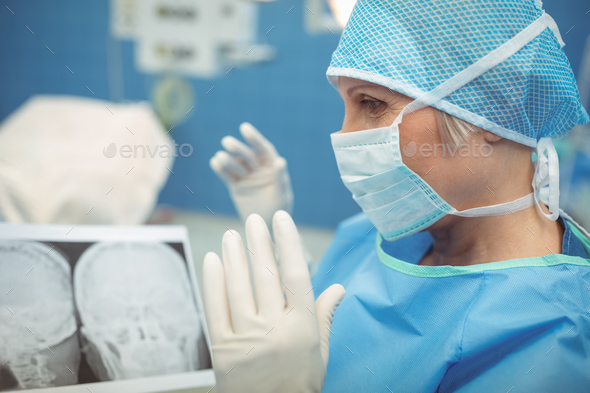Gloves: (191, 209, 348, 393), (206, 119, 307, 224)
with_mask: (326, 87, 469, 242)
